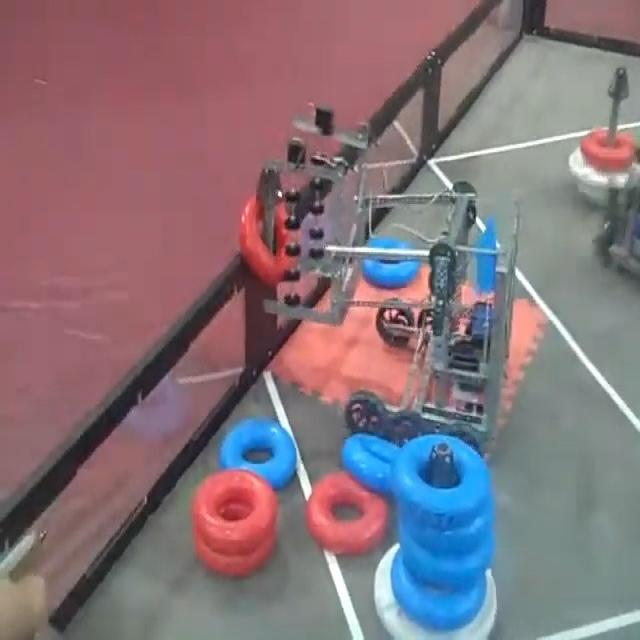Blue-Ring: (392, 435, 494, 529), (391, 550, 486, 629), (220, 418, 296, 488), (400, 532, 495, 586), (399, 513, 494, 555), (341, 433, 400, 494), (359, 235, 421, 293)
Red-Ring: (194, 470, 278, 554), (306, 472, 388, 555), (240, 197, 294, 285), (194, 533, 276, 577), (580, 130, 635, 171)
